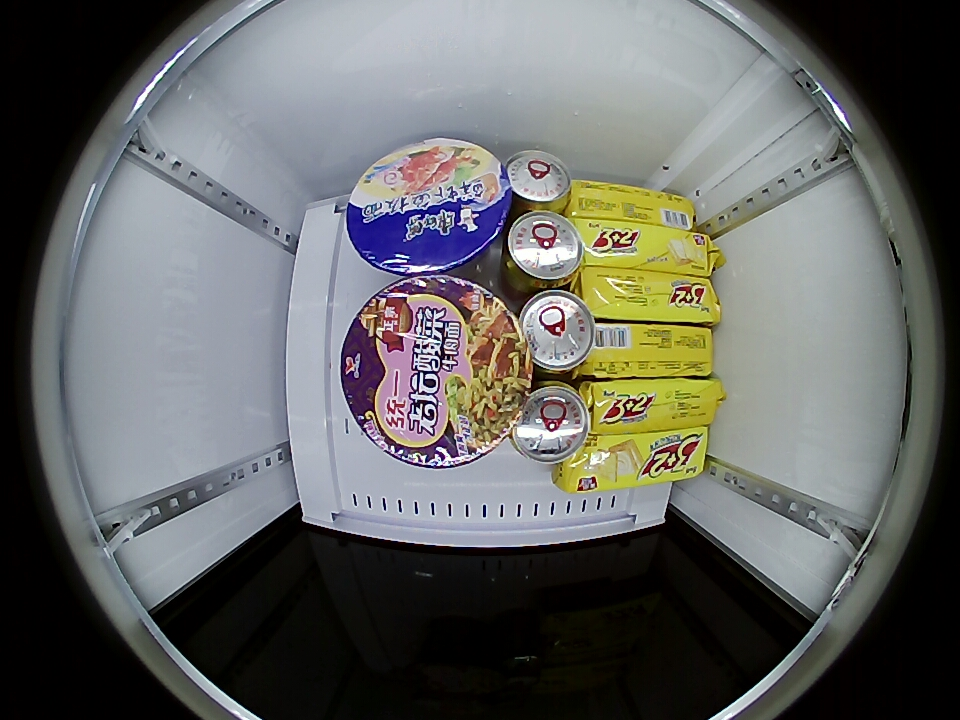3+2-2: (559, 430, 711, 492), (582, 269, 721, 324), (586, 378, 723, 433), (579, 220, 715, 274), (589, 323, 714, 379), (571, 180, 697, 230)
dongpeng: (518, 289, 596, 377), (502, 210, 584, 290), (512, 381, 590, 465), (504, 149, 573, 211)
laotansuancai: (339, 275, 530, 469)
xianxiayuban: (344, 139, 511, 275)
